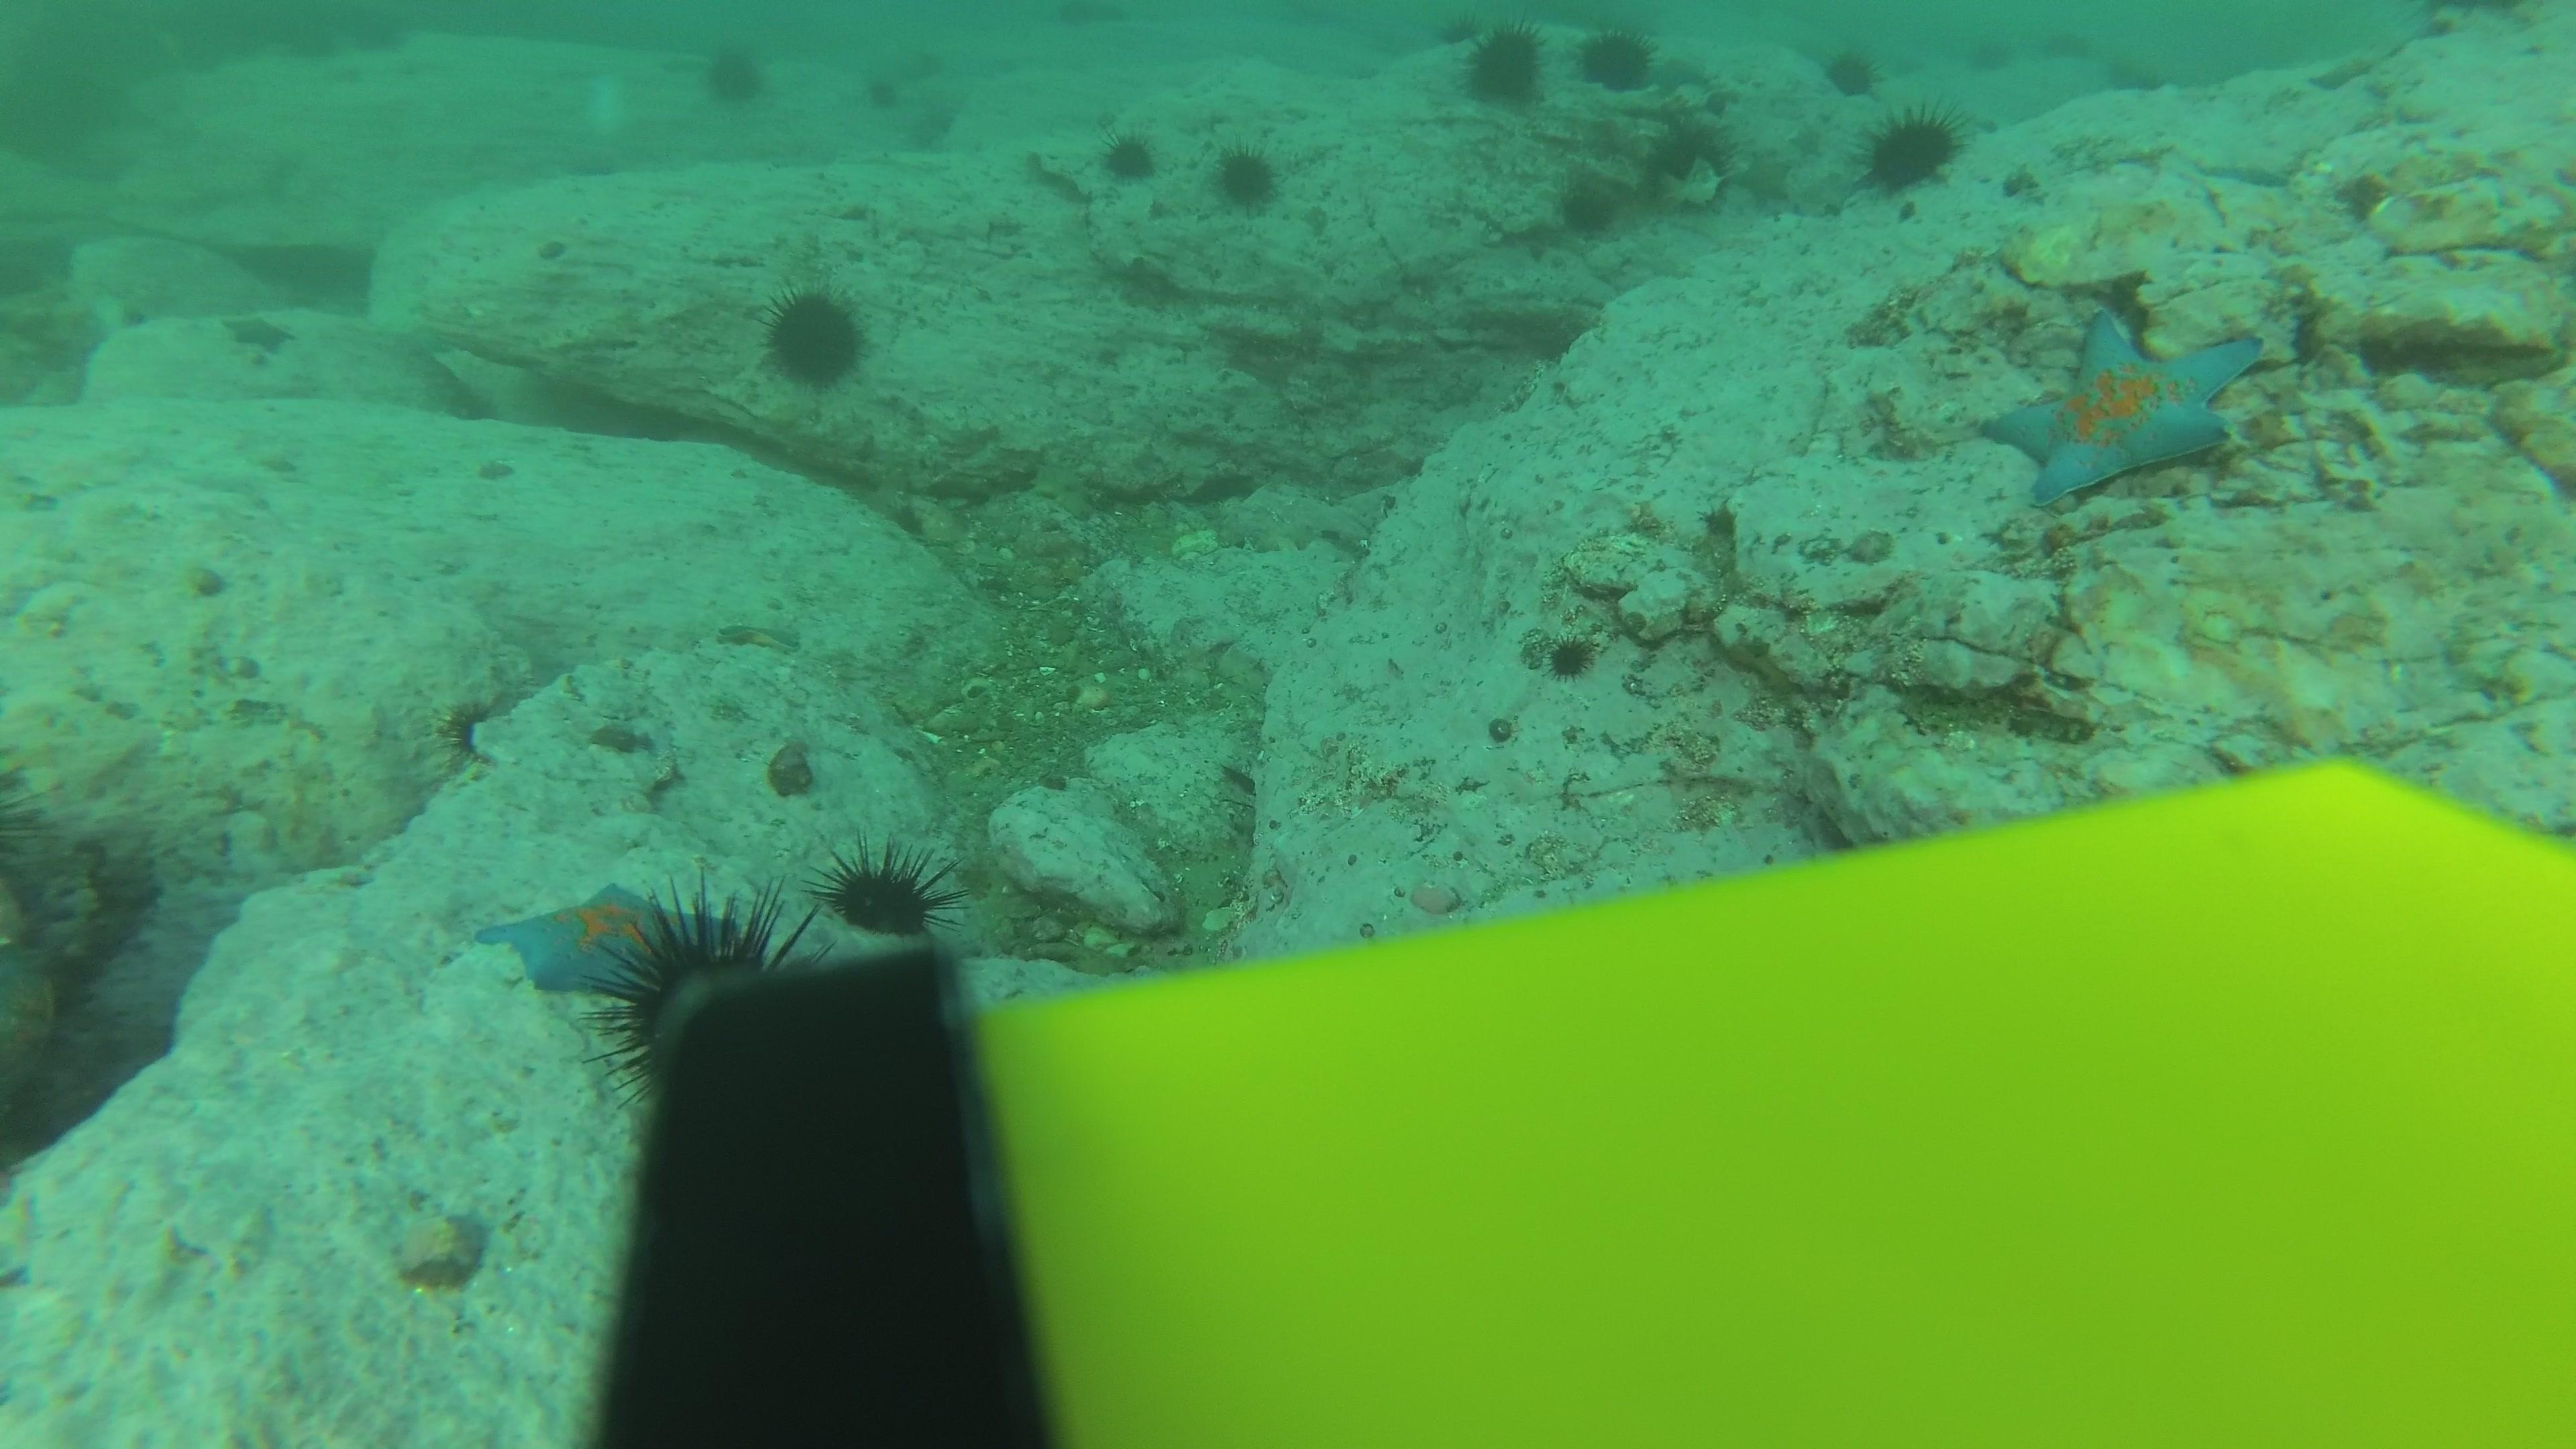echinus: (591, 881, 839, 1118), (819, 840, 950, 943), (757, 283, 872, 393), (1856, 101, 1966, 198), (1453, 19, 1550, 111), (1575, 23, 1660, 96), (1210, 138, 1284, 214), (697, 39, 773, 110), (1553, 172, 1622, 239), (1097, 126, 1161, 186), (1536, 625, 1598, 683), (1821, 42, 1881, 99), (1960, 32, 2020, 88), (347, 2, 407, 58), (2040, 19, 2098, 76), (901, 44, 943, 83), (858, 69, 899, 108)
starfish: (1976, 303, 2268, 508), (472, 872, 743, 1005), (0, 936, 69, 1122), (2180, 136, 2304, 191), (2304, 41, 2408, 94), (2068, 126, 2180, 175), (713, 610, 805, 658), (219, 306, 297, 361), (1736, 147, 1799, 212), (1023, 147, 1092, 205)
